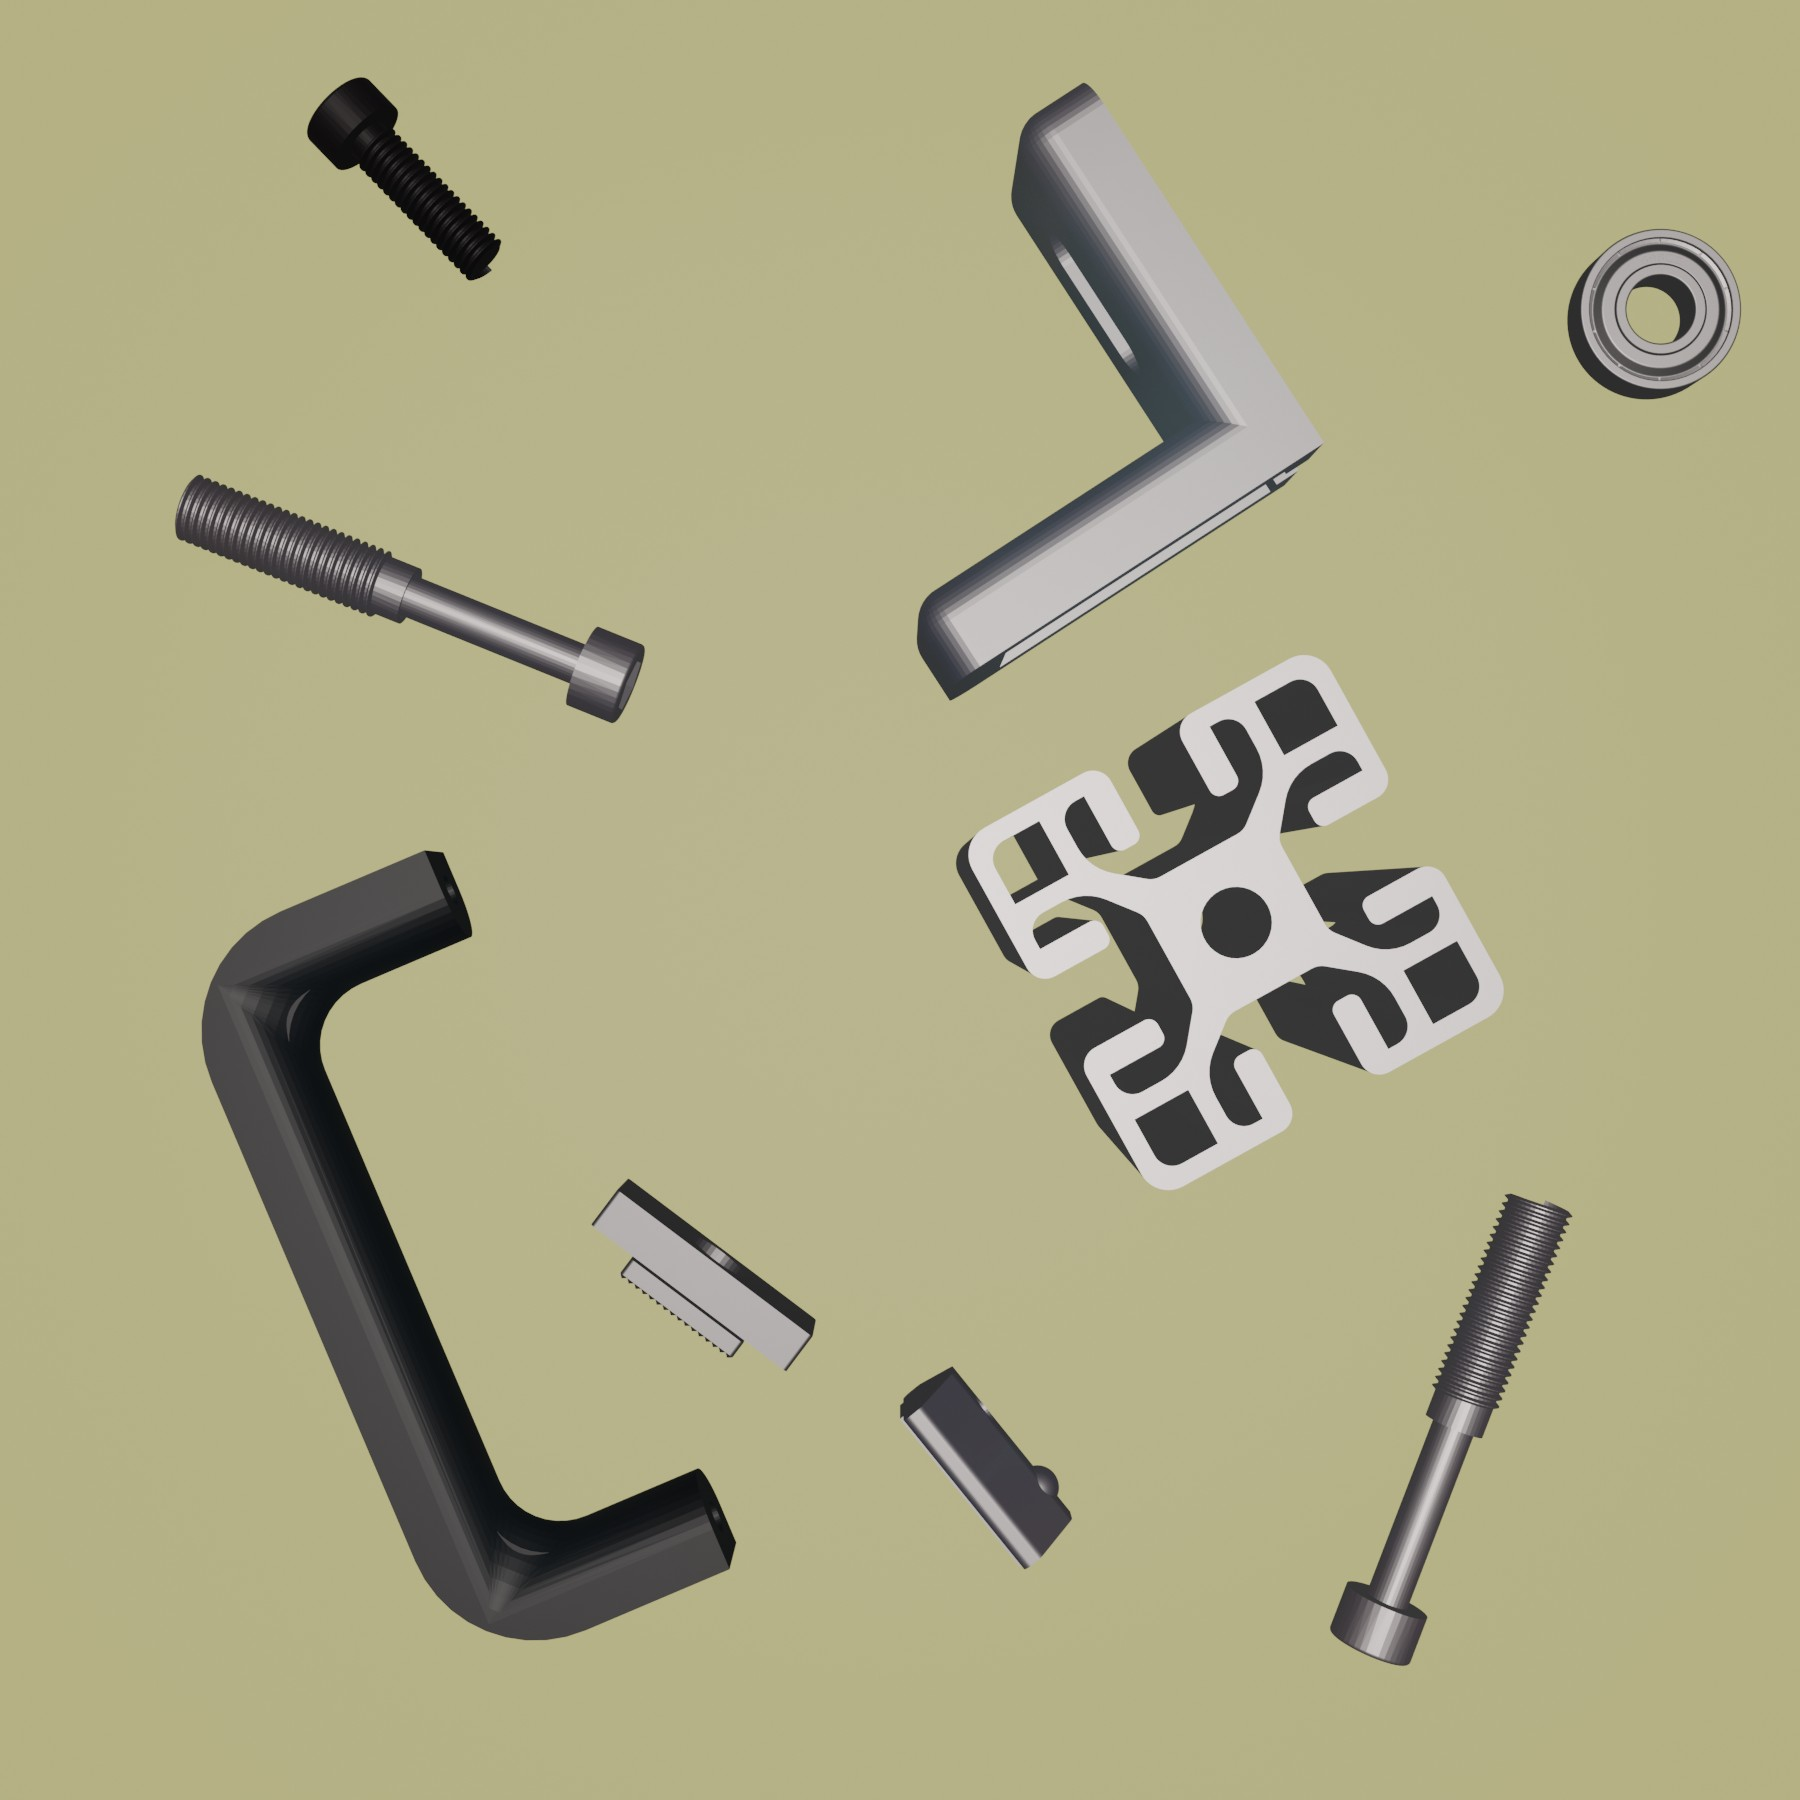Aluminium Extension: (951, 651, 1507, 1197)
Ball Bearing: (1566, 224, 1742, 401)
Multiwinkel: (913, 84, 1325, 701)
Pull Handle: (196, 846, 740, 1642)
Shoulder Socket Head Cap Screw: (170, 470, 648, 725), (1327, 1188, 1576, 1668)
Socket Head Cap Screw: (303, 73, 504, 285)
T Nut Square: (588, 1177, 818, 1376)
T Spring Nut: (893, 1358, 1075, 1574)
